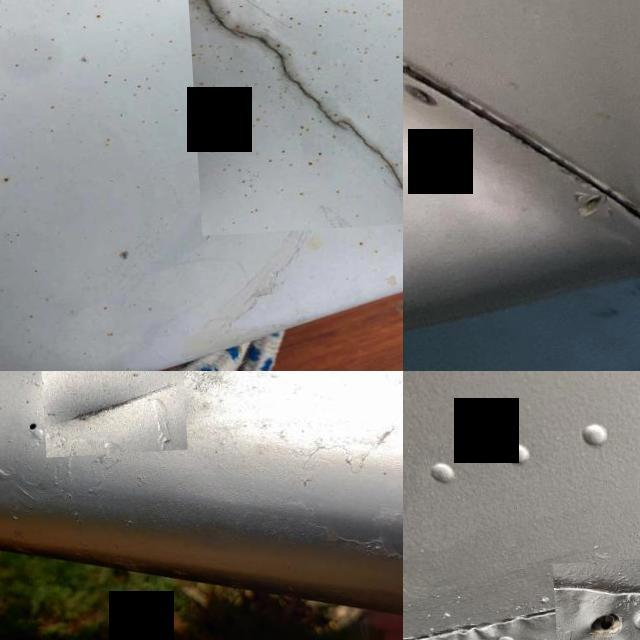Crack: (194, 0, 403, 209), (444, 94, 640, 214), (403, 0, 478, 113), (612, 195, 640, 334)
Dent: (36, 371, 183, 460)
Missing_Fastener: (548, 561, 640, 640), (574, 198, 604, 220)
